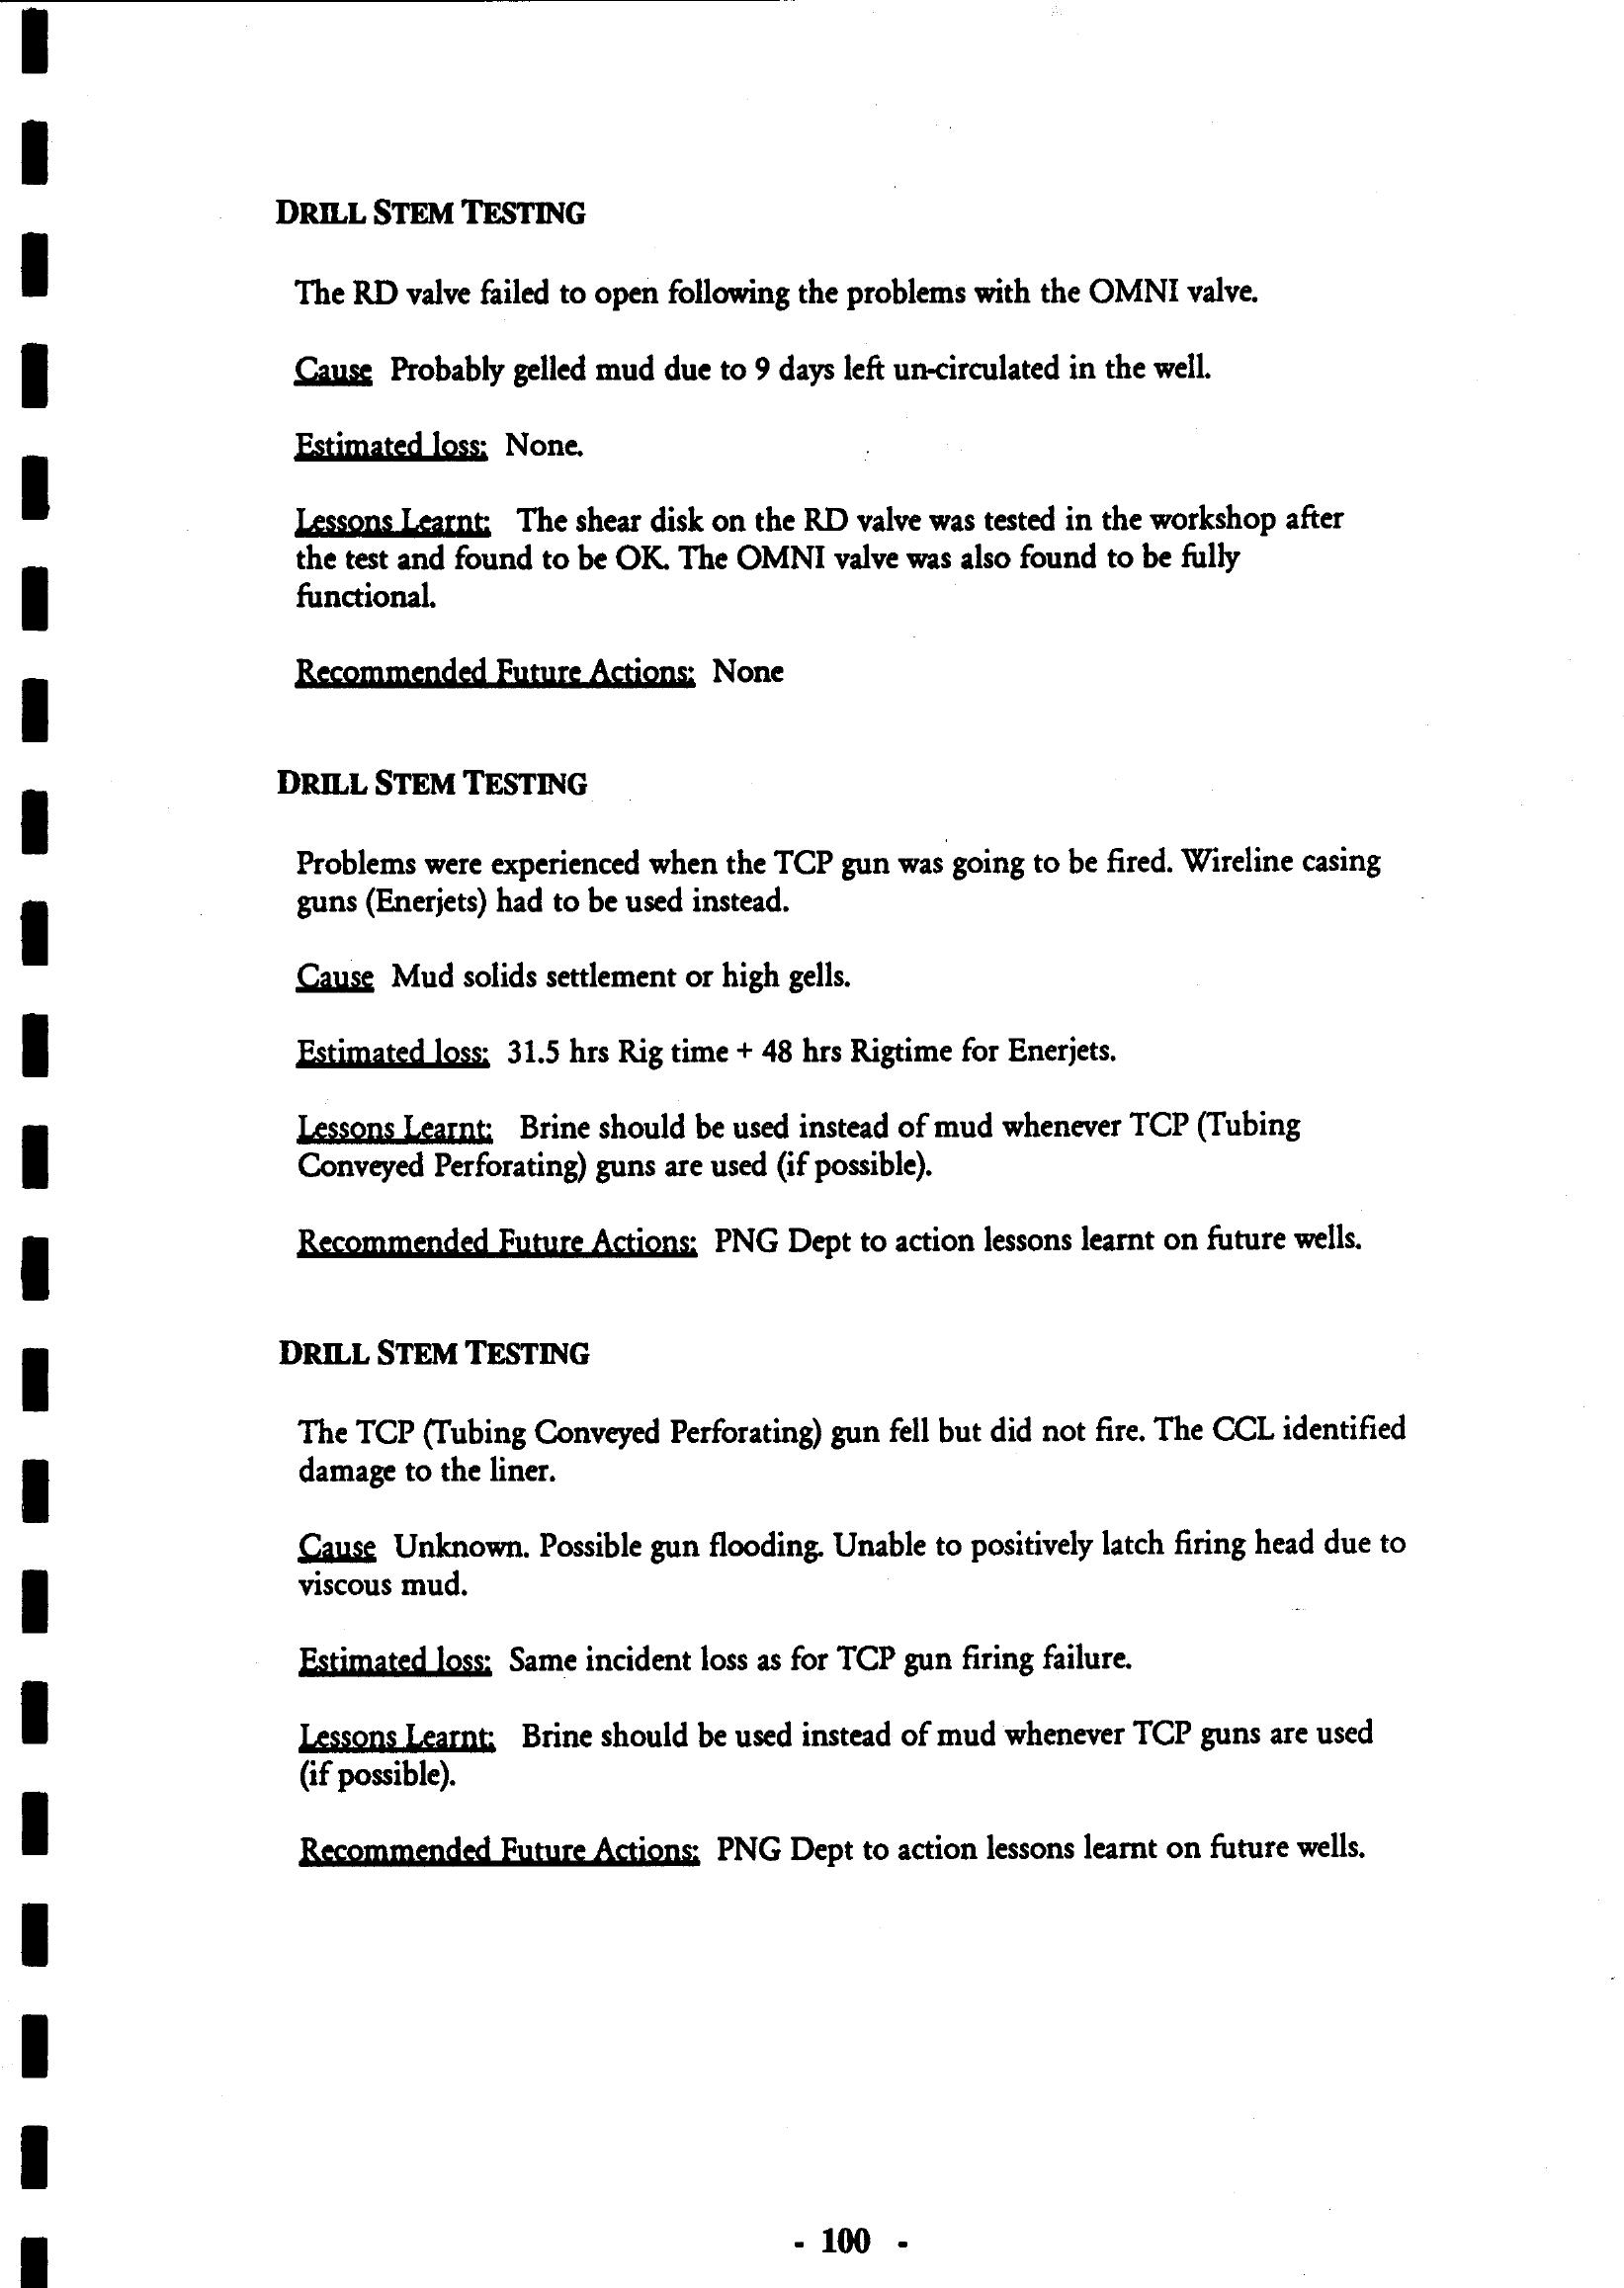text: (243, 179, 1427, 1928)
